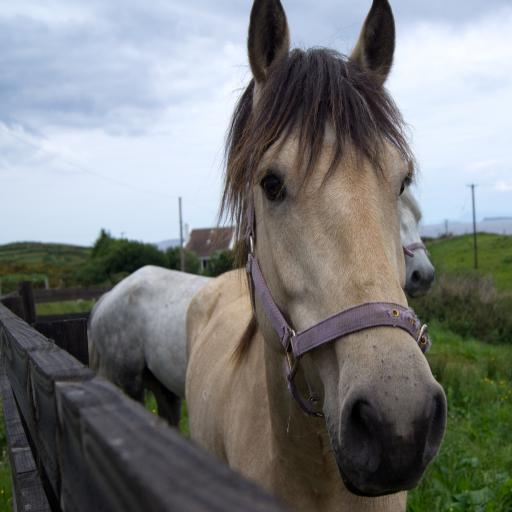Horse: (84, 0, 446, 512), (86, 157, 436, 428)
